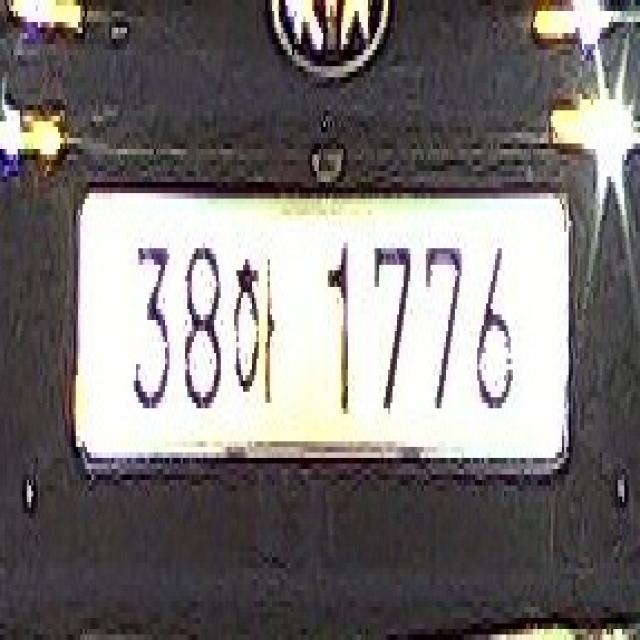1: (328, 237, 352, 414)
3: (134, 232, 174, 414)
6: (470, 248, 513, 408)
7: (370, 237, 415, 414), (421, 232, 464, 414)
8: (183, 237, 223, 408)
ha: (230, 243, 276, 403)
license_plate: (73, 182, 571, 475)
